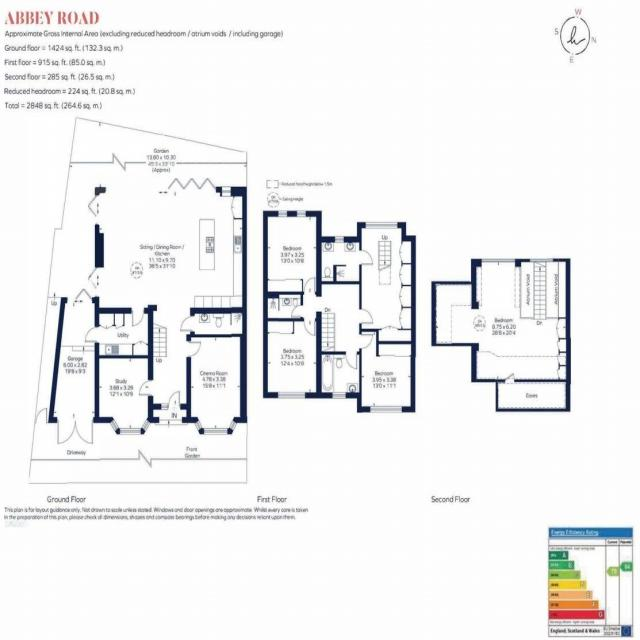DOOR: (138, 378, 154, 397), (130, 307, 145, 327), (180, 314, 195, 333), (84, 325, 99, 344), (168, 390, 181, 410), (359, 249, 374, 266), (186, 340, 201, 357), (303, 318, 316, 337), (303, 276, 316, 295), (359, 308, 374, 324), (359, 333, 373, 349), (345, 351, 357, 369), (291, 304, 303, 318)
FOLDING DOOR: (105, 173, 217, 194)
ROOM: (431, 258, 571, 383), (186, 334, 247, 435), (263, 210, 322, 299), (357, 328, 416, 413), (94, 355, 154, 435), (263, 318, 322, 399)
WINDOW: (109, 418, 152, 435), (365, 221, 398, 229), (277, 391, 306, 399), (369, 406, 402, 413), (203, 428, 228, 435), (228, 419, 238, 432), (194, 419, 203, 432), (221, 186, 231, 197), (332, 392, 346, 399), (278, 210, 287, 218), (296, 210, 306, 217), (334, 236, 344, 243), (161, 403, 168, 411)
